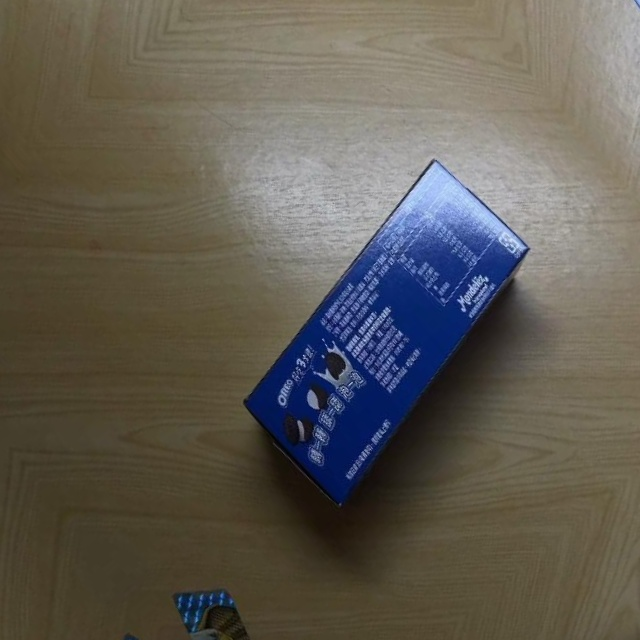Oreo: (201, 145, 580, 511)
